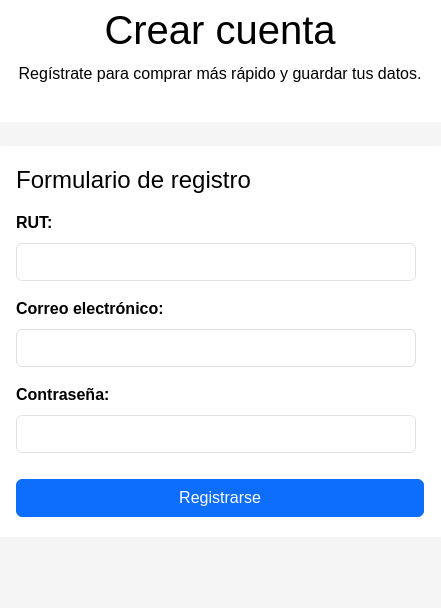
Test: Pruebas de Validación en el Formulario de Registro › debe registrar exitosamente cuando los datos son correctos
The image size is (441, 608).
In the field labelled "RUT:": (216, 262) [16,243,416,281], type "201234567"
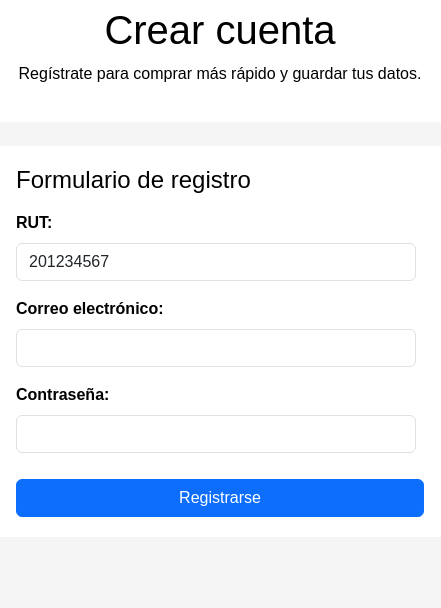
In the field labelled "Correo electrónico:": (216, 348) [16,329,416,367], type "estudiante@duoc.cl"
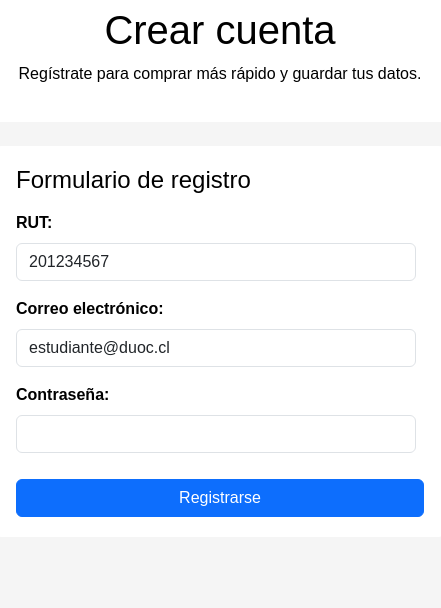
In the password field labelled "Contraseña:": (216, 434) [16,415,416,453], type "123456"
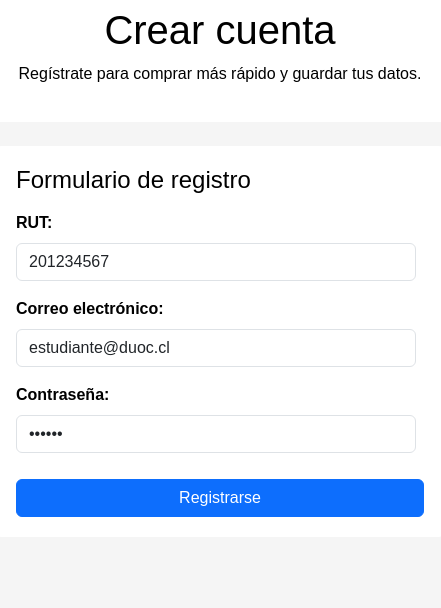
Click the button "Registrarse": (220, 498) [16,479,424,517]
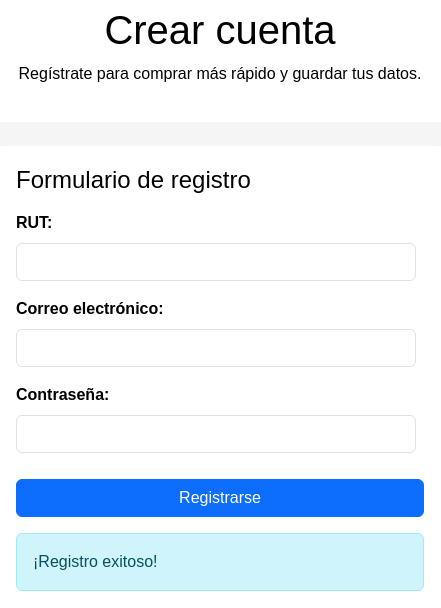
expect the text "¡Registro exitoso!" is shown: met, box [16,533,424,591]
